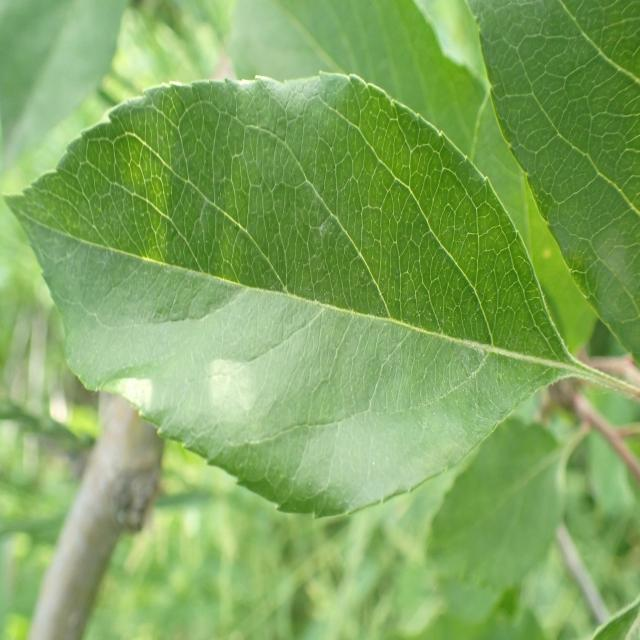healthy: (1, 71, 569, 519), (468, 0, 640, 368), (227, 1, 488, 166)
